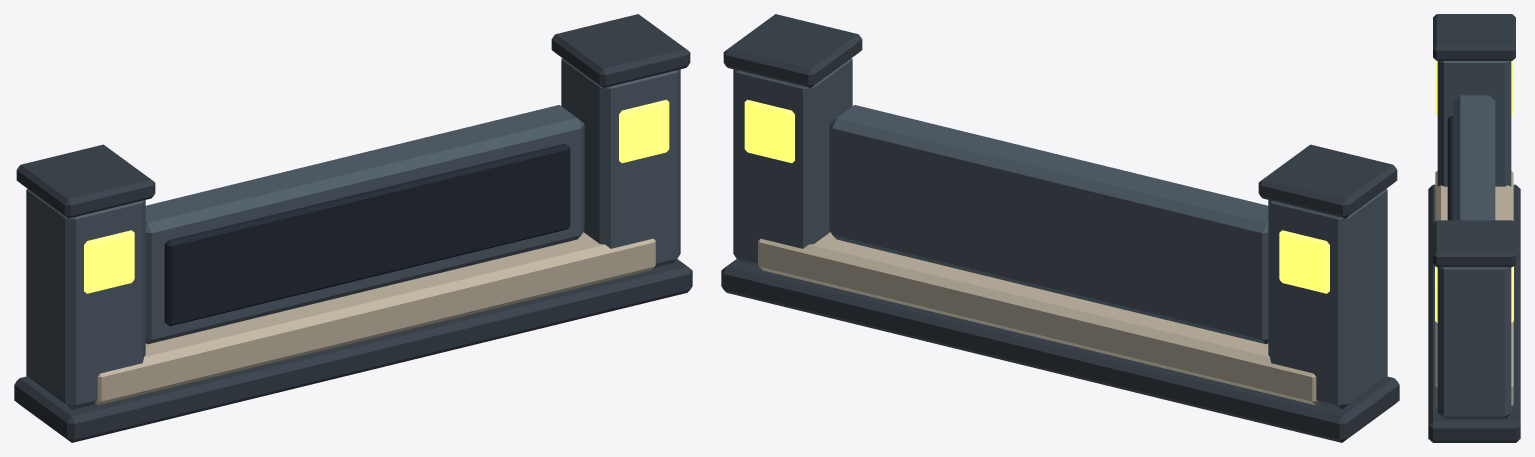
File: Terminal_Nameplate.fbx
3 renders of one model, left to right at view 1: azimuth 30°, elevation 25°; view 2: azimuth 150°, elevation 25°; view 3: azimuth 270°, elevation 25°, orthographic. The views are drawn at different scales.
Visible parts, largest first — view 1: Frame, Plate, FrameDark, Concrete, Glow; view 2: Frame, FrameDark, Concrete, Glow; view 3: Frame, FrameDark, Concrete, Plate, Glow.
Part boxes in pixels (x1=…): Frame: x1=26, y1=58, x2=680, y2=409; Plate: x1=164, y1=143, x2=570, y2=326; FrameDark: x1=14, y1=14, x2=692, y2=442; Concrete: x1=95, y1=232, x2=655, y2=405; Glow: x1=84, y1=99, x2=669, y2=293; Frame: x1=733, y1=58, x2=1387, y2=409; FrameDark: x1=721, y1=14, x2=1399, y2=442; Concrete: x1=758, y1=232, x2=1318, y2=405; Glow: x1=744, y1=99, x2=1329, y2=293; Frame: x1=1437, y1=61, x2=1511, y2=419; FrameDark: x1=1428, y1=14, x2=1520, y2=442; Concrete: x1=1435, y1=171, x2=1513, y2=406; Plate: x1=1447, y1=116, x2=1453, y2=220; Glow: x1=1435, y1=60, x2=1513, y2=322.
Bounding box in the file's own units: 6.2 × 2.29 × 1.
